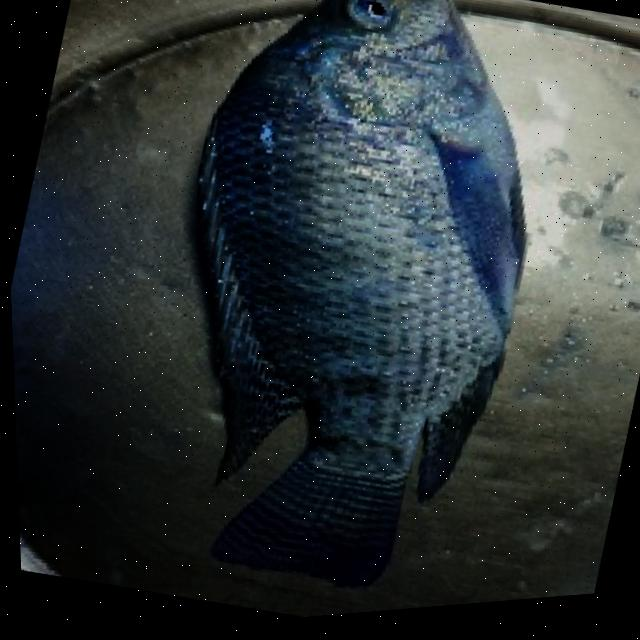Fresh: (72, 0, 567, 635)
